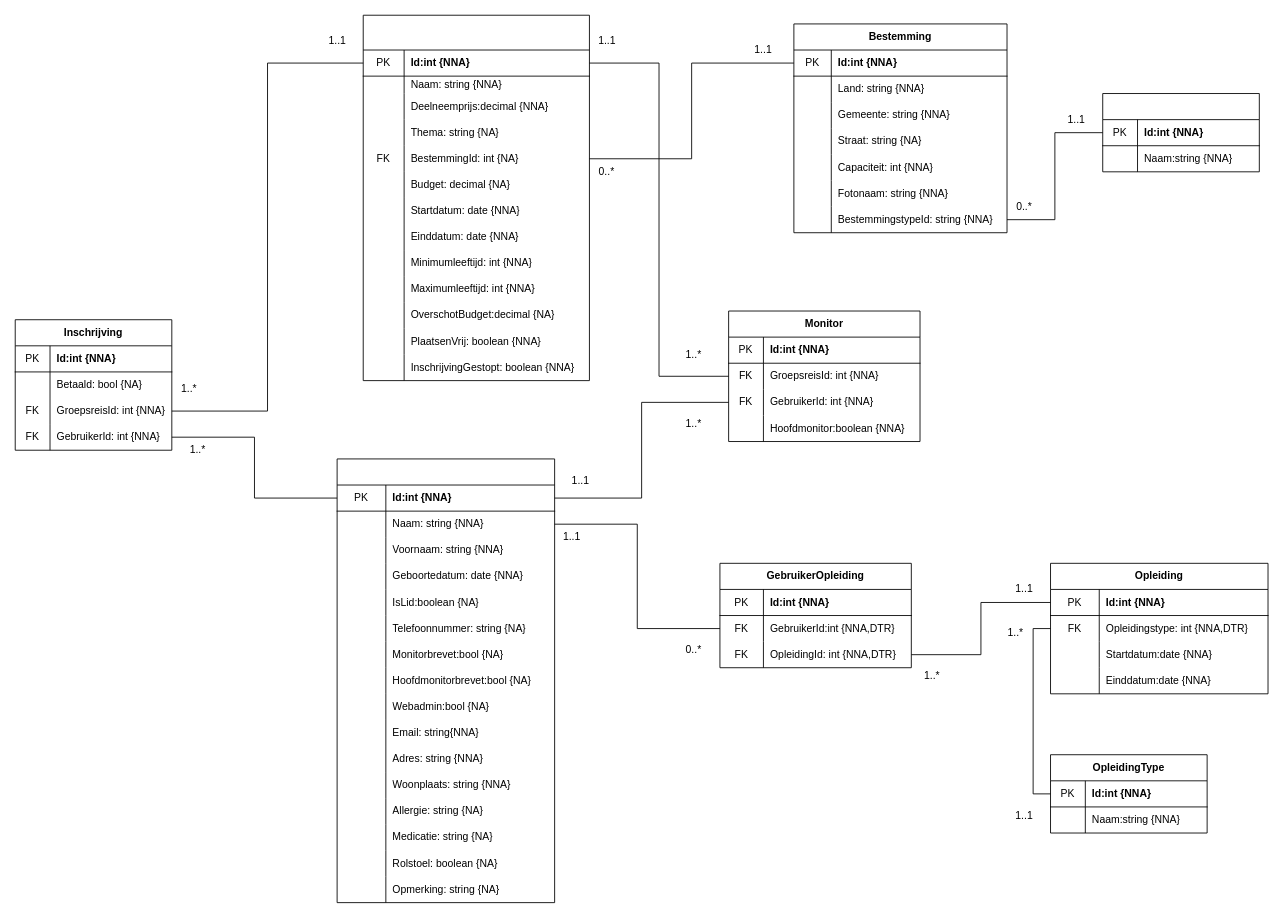
Image size: 1283x918. Some labels were removed from this diagram. The box of each missing label's shape, as (x1, y1, x2, y2) in pixels:
Bestemmingstype: (1102, 93, 1259, 172)
Gebruiker: (336, 458, 555, 903)
Groepsreis: (362, 14, 589, 381)
